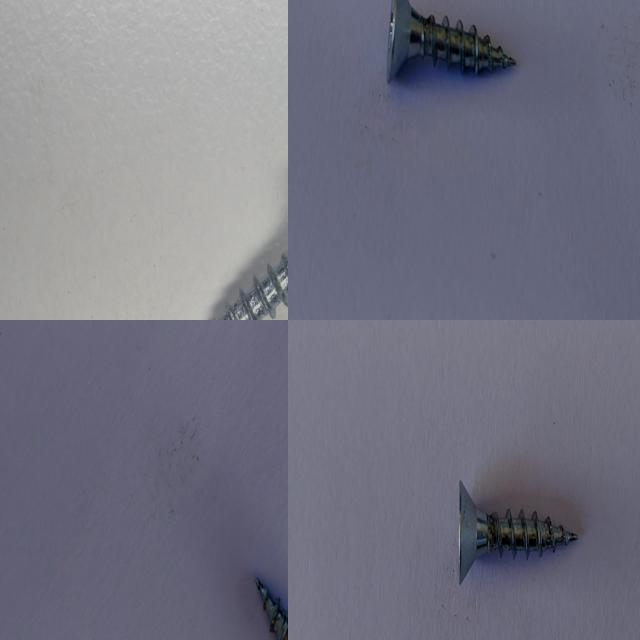Screw: (189, 184, 288, 320), (459, 480, 578, 582), (386, 0, 516, 82)
